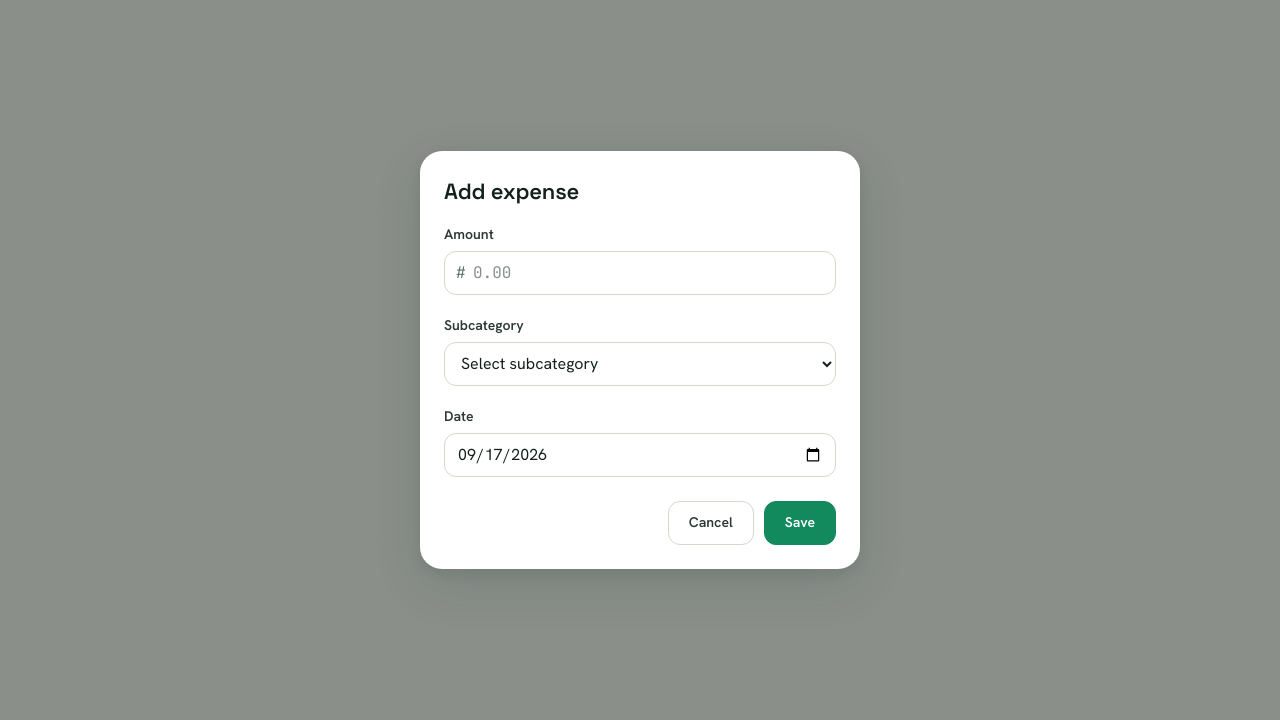
Test case: ExpenseForm › shows validation error for future date on submit
The image size is (1280, 720).
Type "10.00" into the field labelled "Amount" at (640, 273), box top-left (444, 251), bottom-right (836, 295)
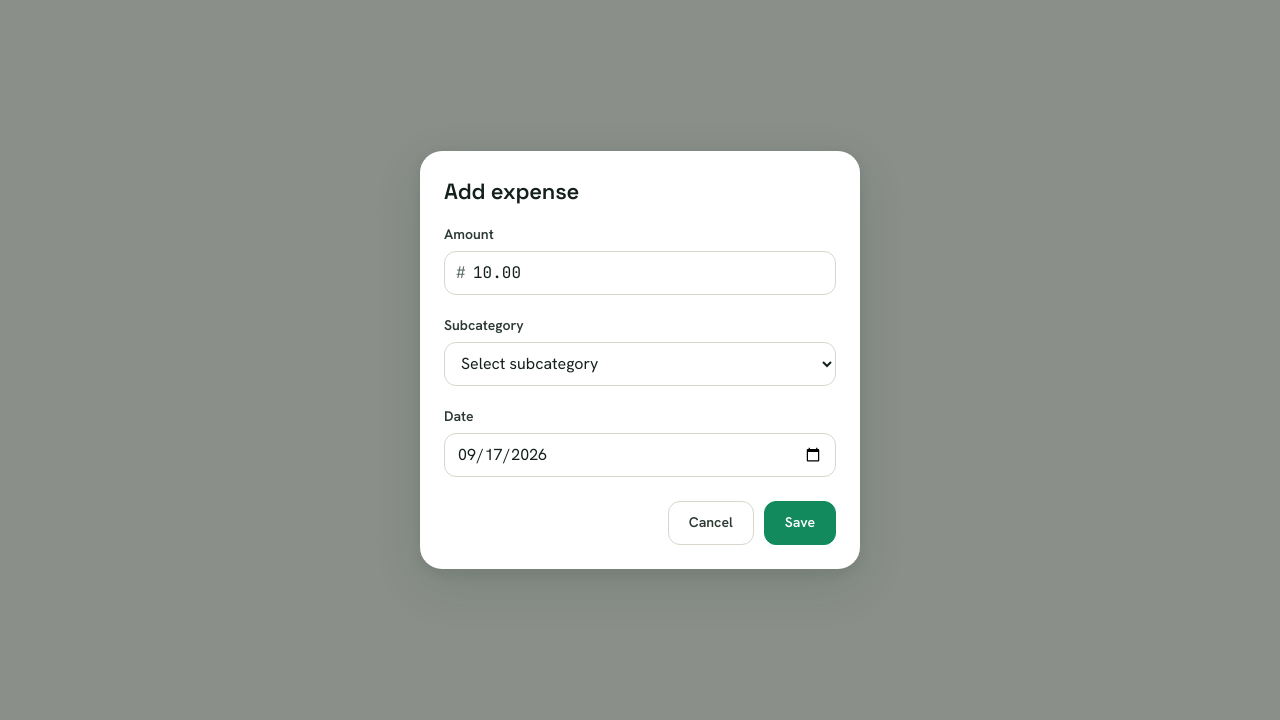
Type "2099-01-01" into the date field labelled "Date" at (640, 455), box top-left (444, 433), bottom-right (836, 477)
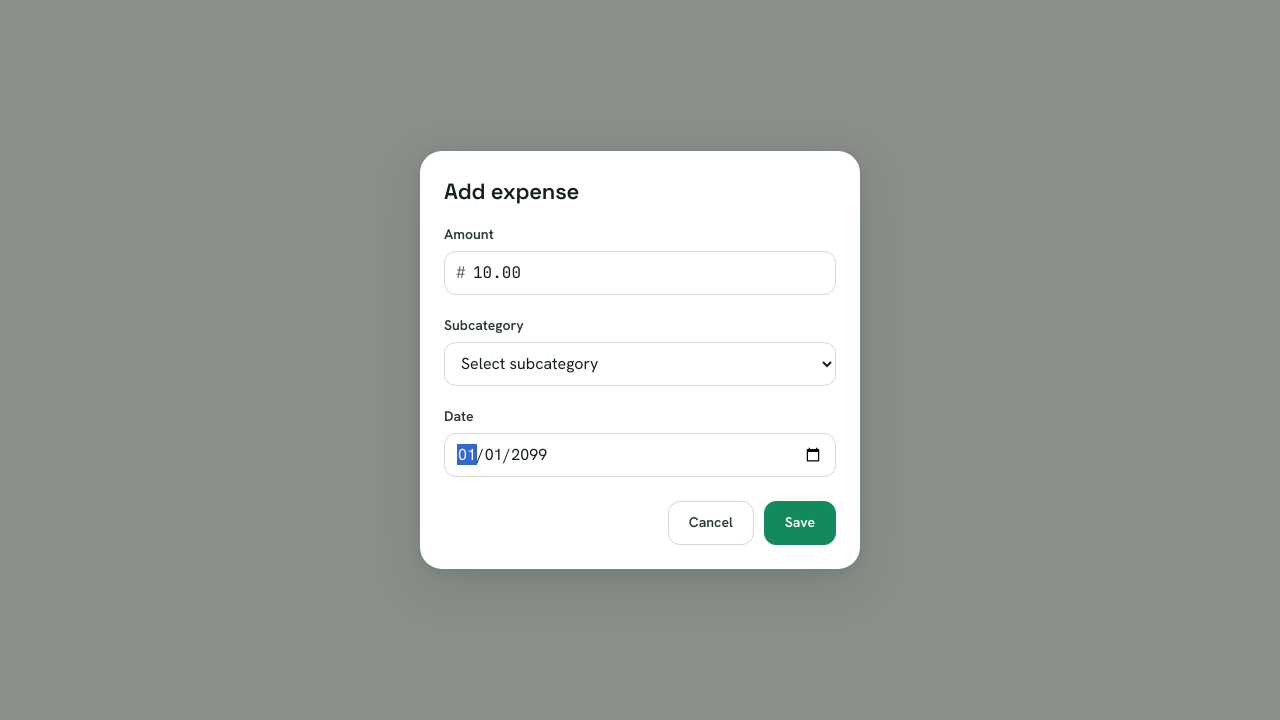
Click the button "Save" at (800, 523), box top-left (764, 501), bottom-right (836, 545)
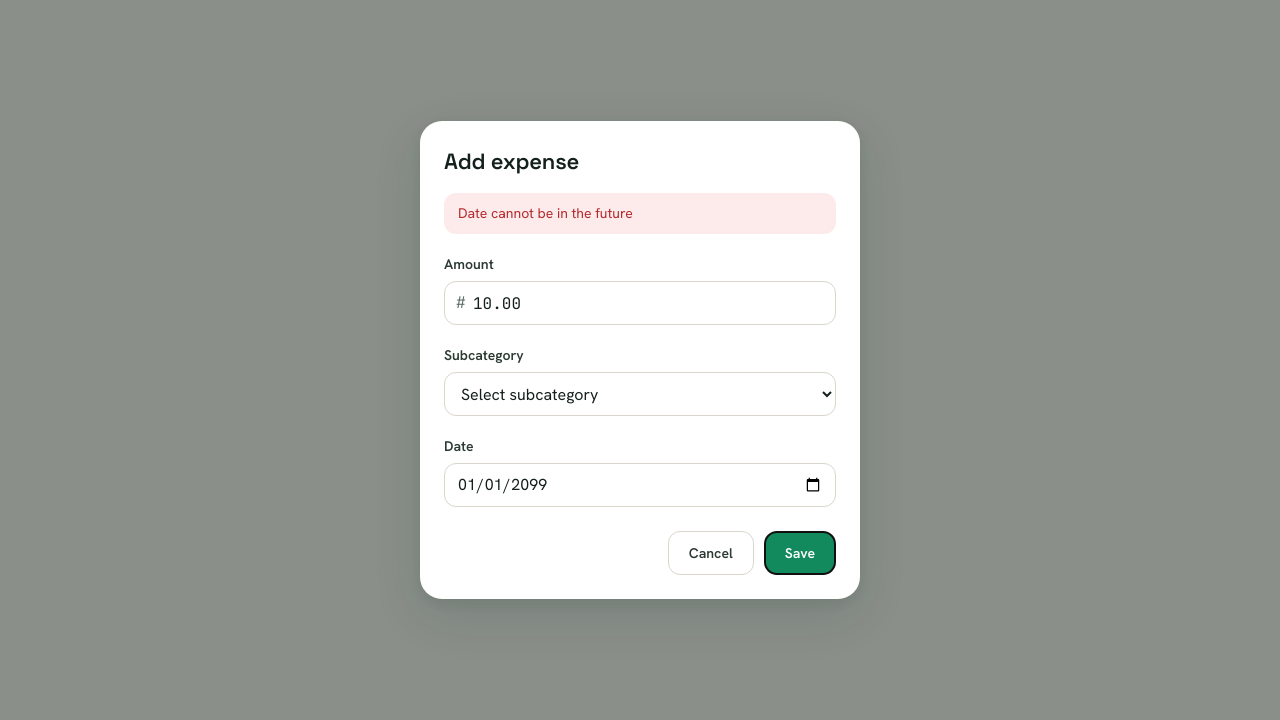
Now the message "Date cannot be in the future" is shown, box top-left (444, 193), bottom-right (836, 234)
